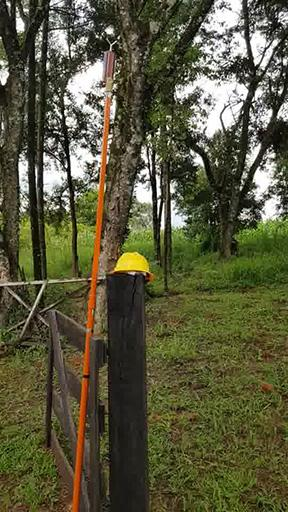Detector_Tensao_Contato: (102, 37, 118, 83)
Vara_Manobra: (71, 83, 113, 512)
